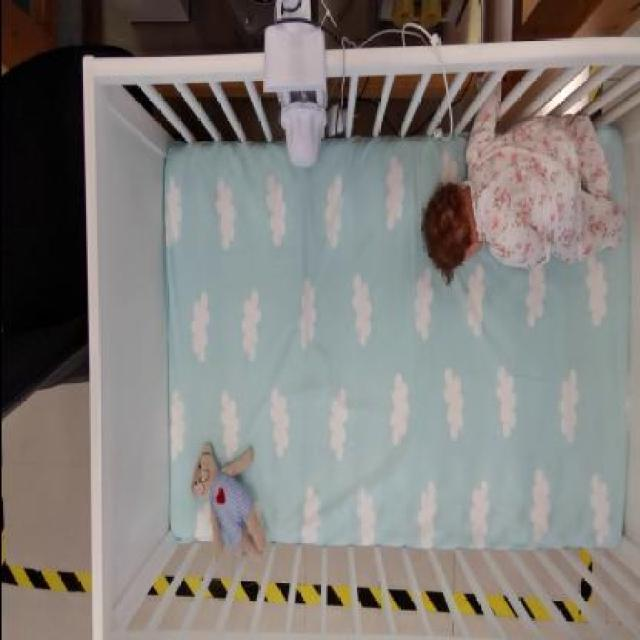baby: (416, 72, 626, 294)
